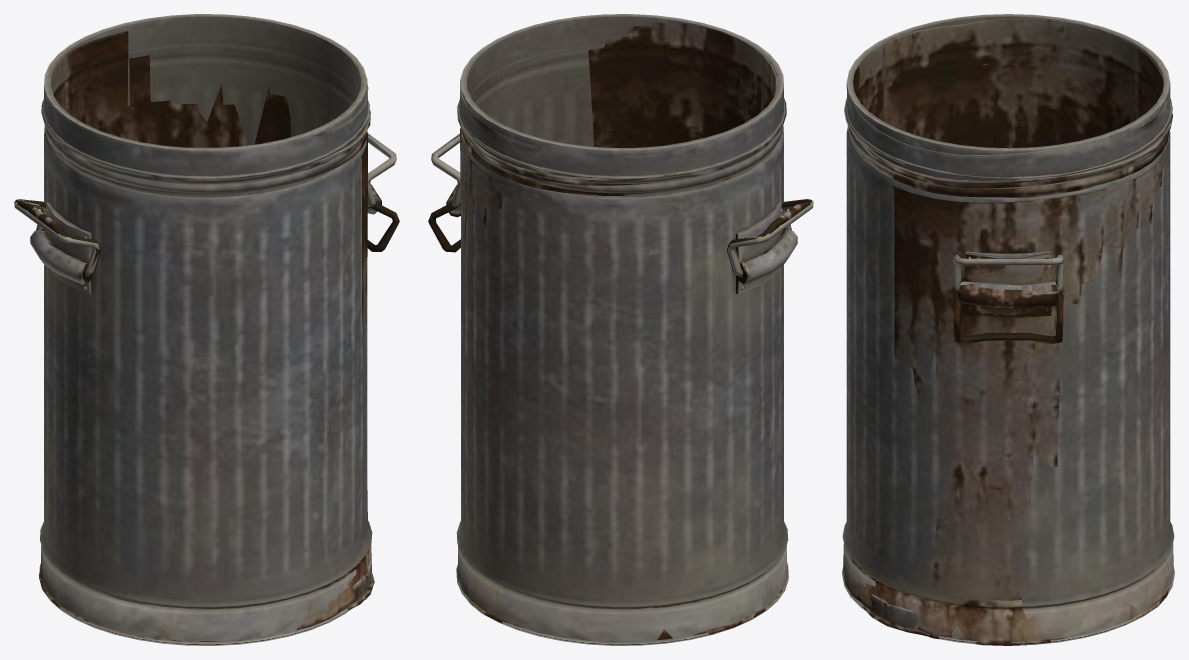
The model's file is trash-cans.glb.
3 views of the same model, side by side, from view 1: azimuth 30°, elevation 25°; view 2: azimuth 150°, elevation 25°; view 3: azimuth 270°, elevation 25° (orthographic).
Parts seen in each view (by area): view 1: metal_trash_can, metal_trash_can_rust, metal_trash_can_lid, metal_trash_can_rust_lid; view 2: metal_trash_can, metal_trash_can_rust, metal_trash_can_lid, metal_trash_can_rust_lid; view 3: metal_trash_can_rust, metal_trash_can, metal_trash_can_rust_lid, metal_trash_can_lid.
Boxes of the visible parts, <box> form: metal_trash_can: <box>14,14,396,642</box>; metal_trash_can_rust: <box>16,31,399,639</box>; metal_trash_can_lid: <box>39,563,350,645</box>; metal_trash_can_rust_lid: <box>39,560,374,642</box>; metal_trash_can: <box>431,14,813,641</box>; metal_trash_can_rust: <box>428,22,811,639</box>; metal_trash_can_lid: <box>456,564,788,645</box>; metal_trash_can_rust_lid: <box>464,565,787,635</box>; metal_trash_can_rust: <box>844,18,1172,645</box>; metal_trash_can: <box>842,14,1174,639</box>; metal_trash_can_rust_lid: <box>857,587,1169,644</box>; metal_trash_can_lid: <box>842,568,1174,644</box>.
Bounding box in the file's own units: 0.6495 × 0.9062 × 0.5543.
Materials: 2 (2 with a texture image).
